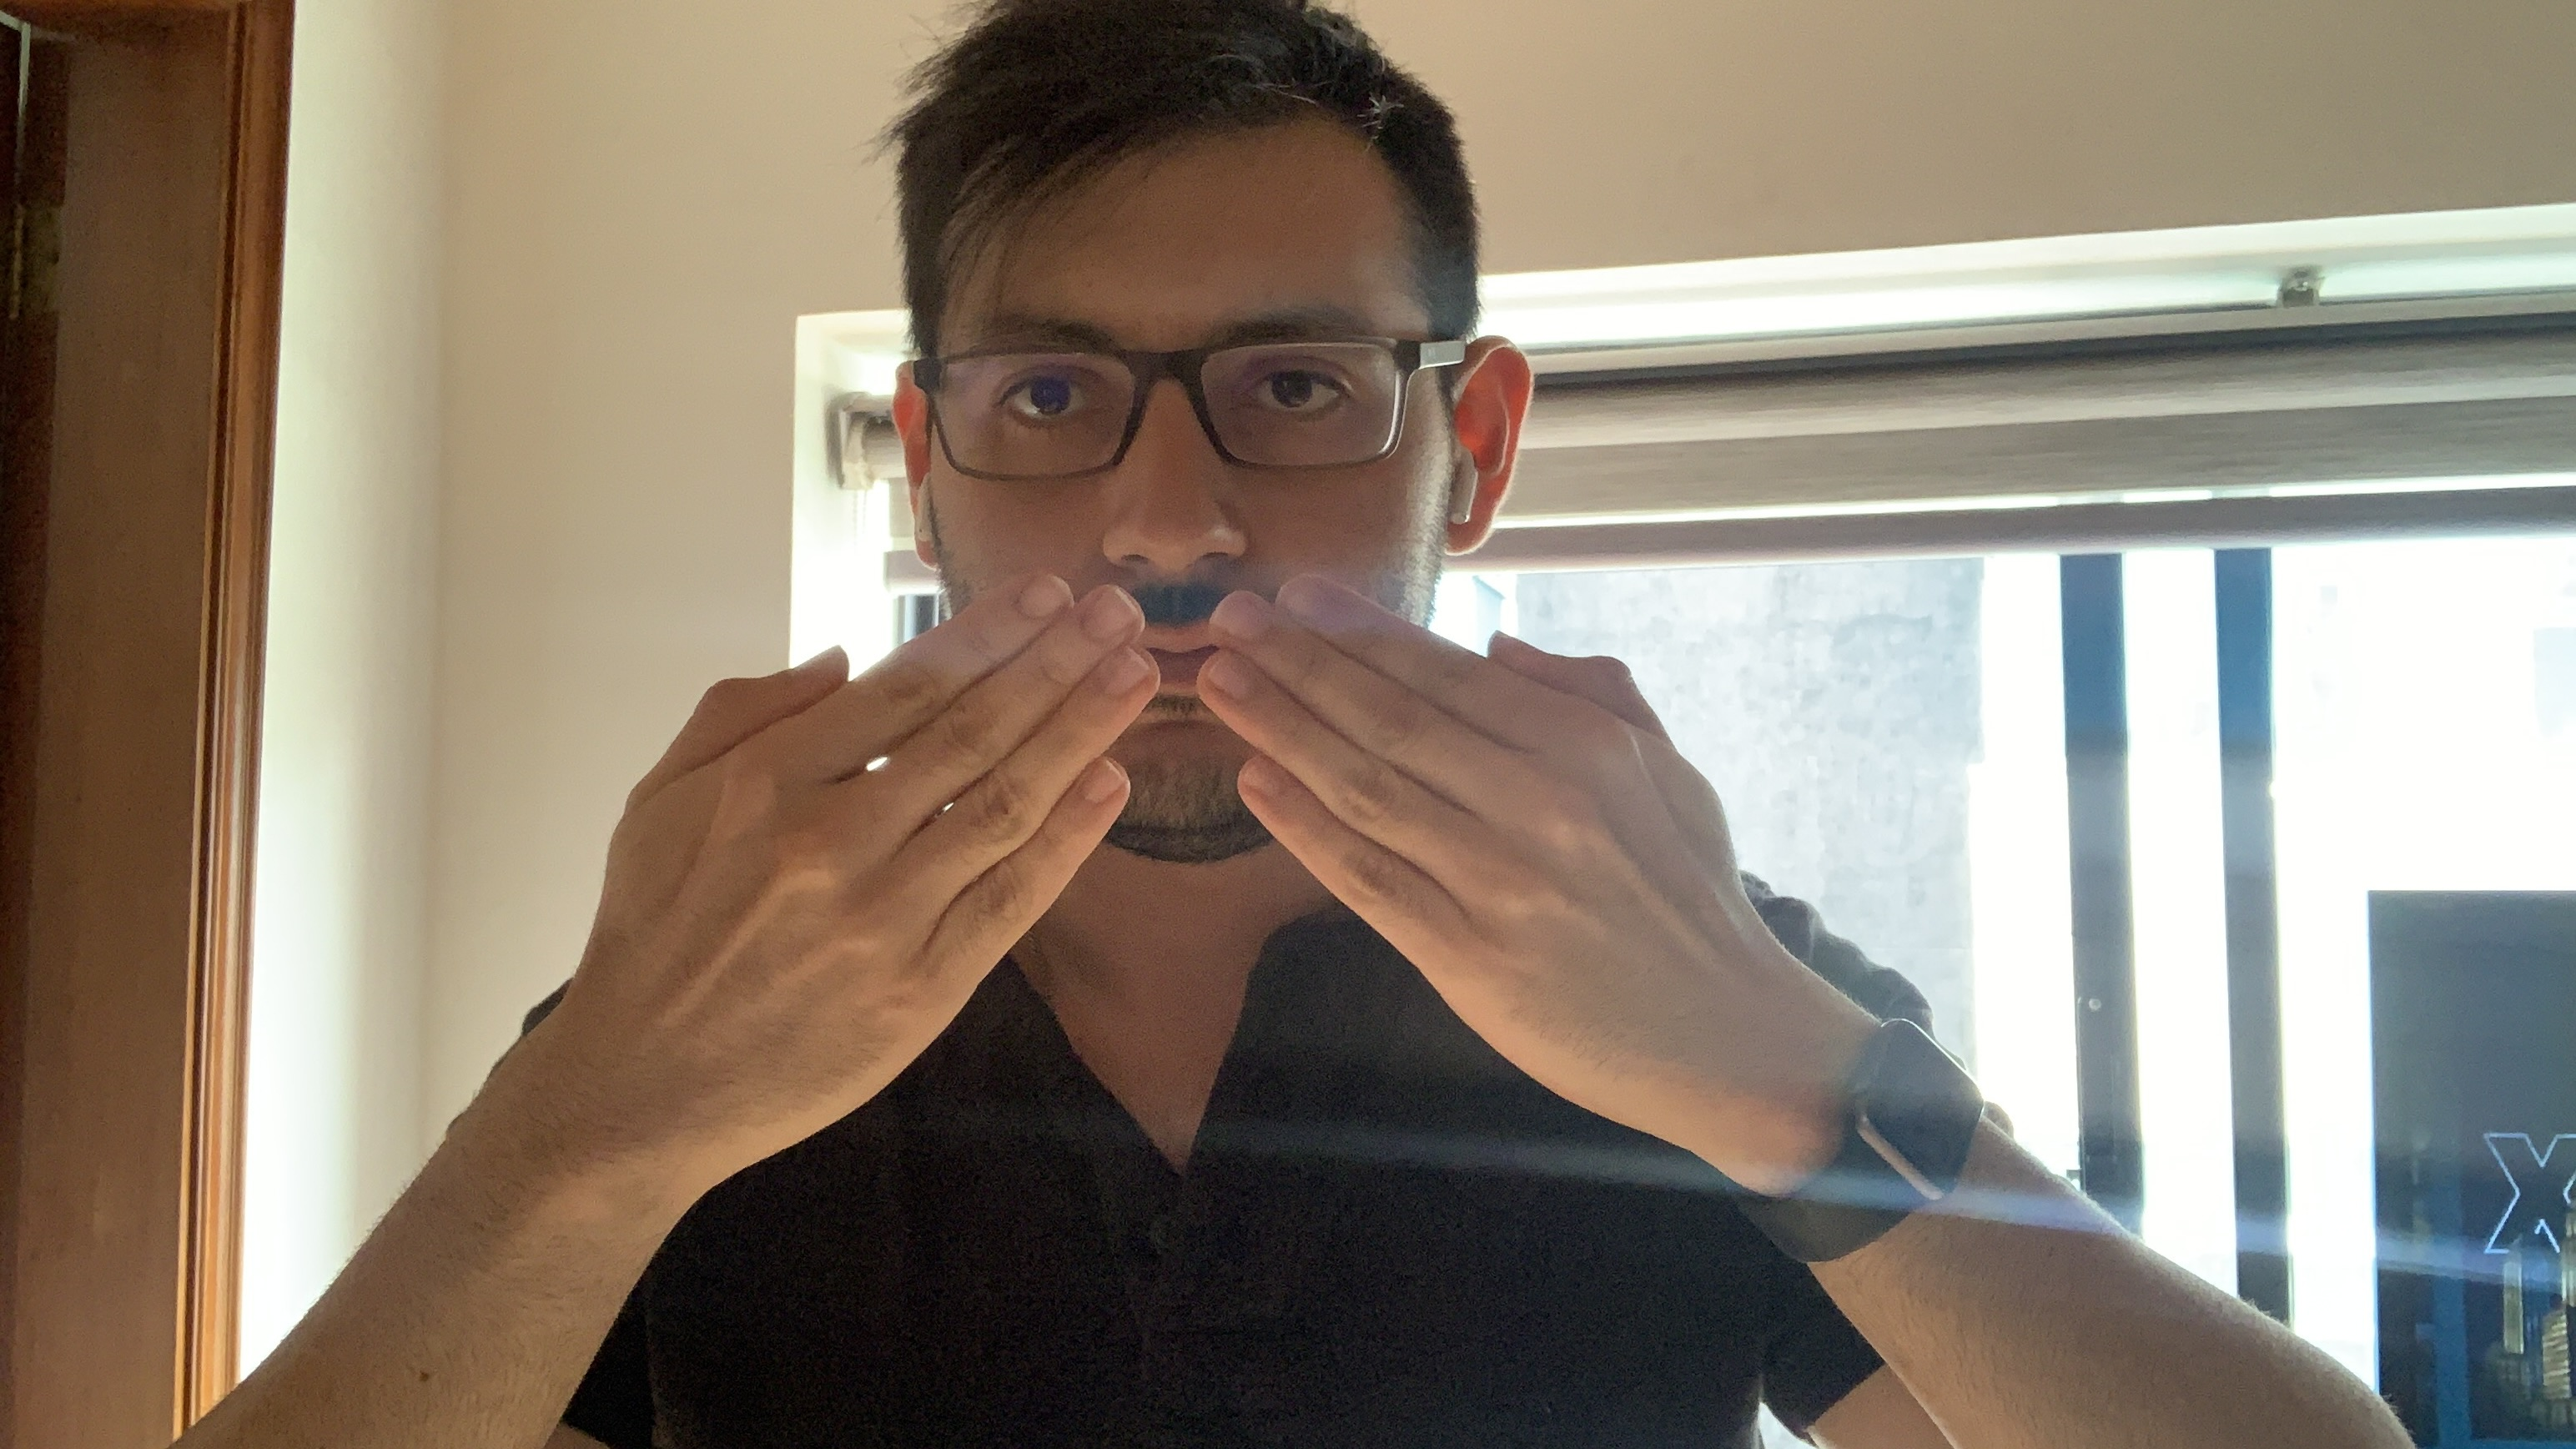Thank You: (587, 564, 1762, 1178)
